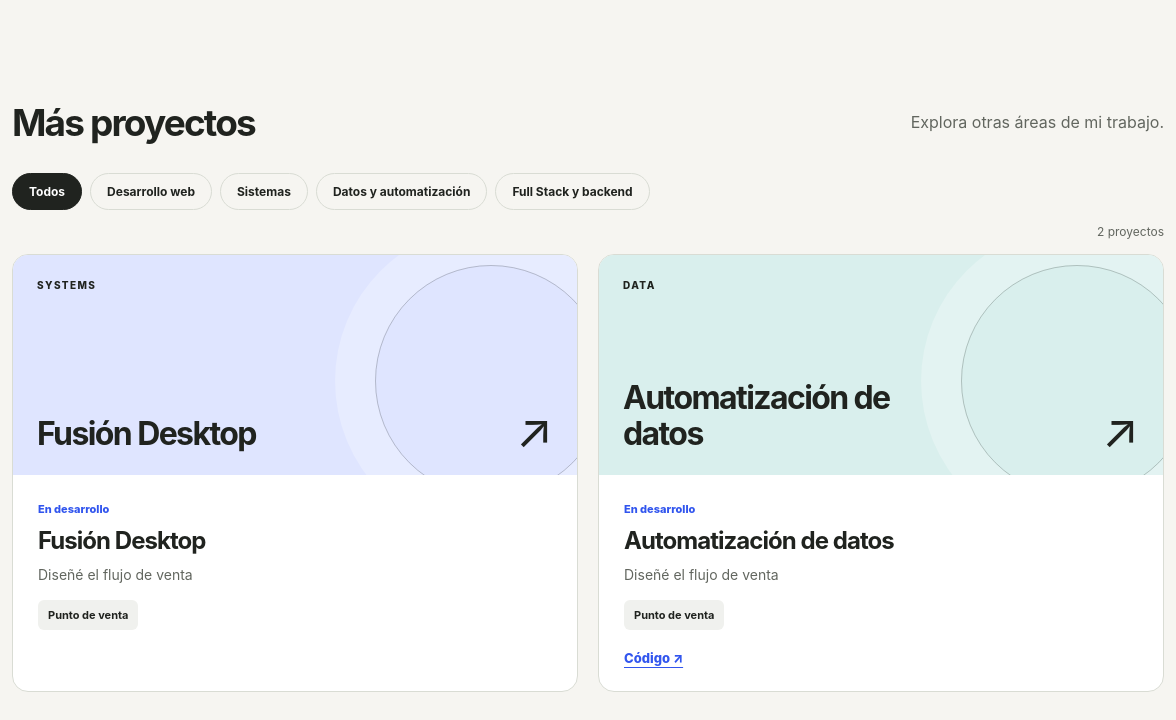
Test: galería de proyectos › filtra y permite volver a todos
Click the button "Datos y automatización".
click(402, 192)  # box [316, 173, 487, 210]
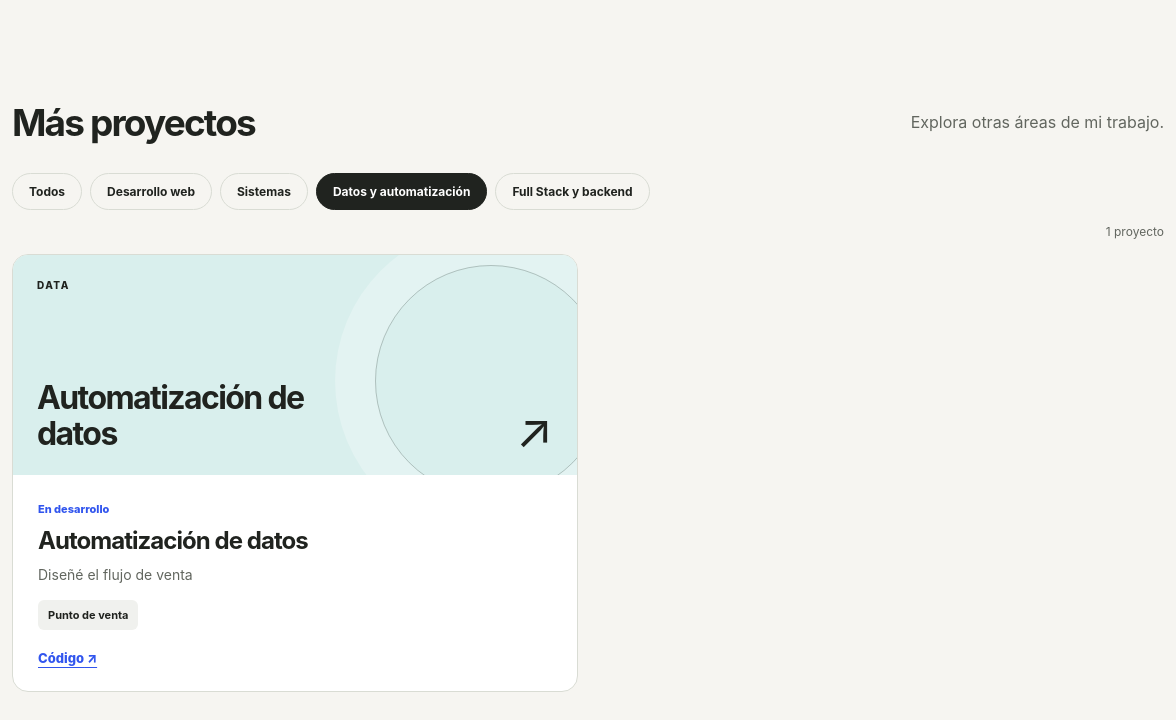
Check: the heading "Automatización de datos" is shown, box [38, 526, 308, 555]
Check: the text "Fusión Desktop" is gone
Click the button "Todos".
click(47, 192)  # box [12, 173, 82, 210]
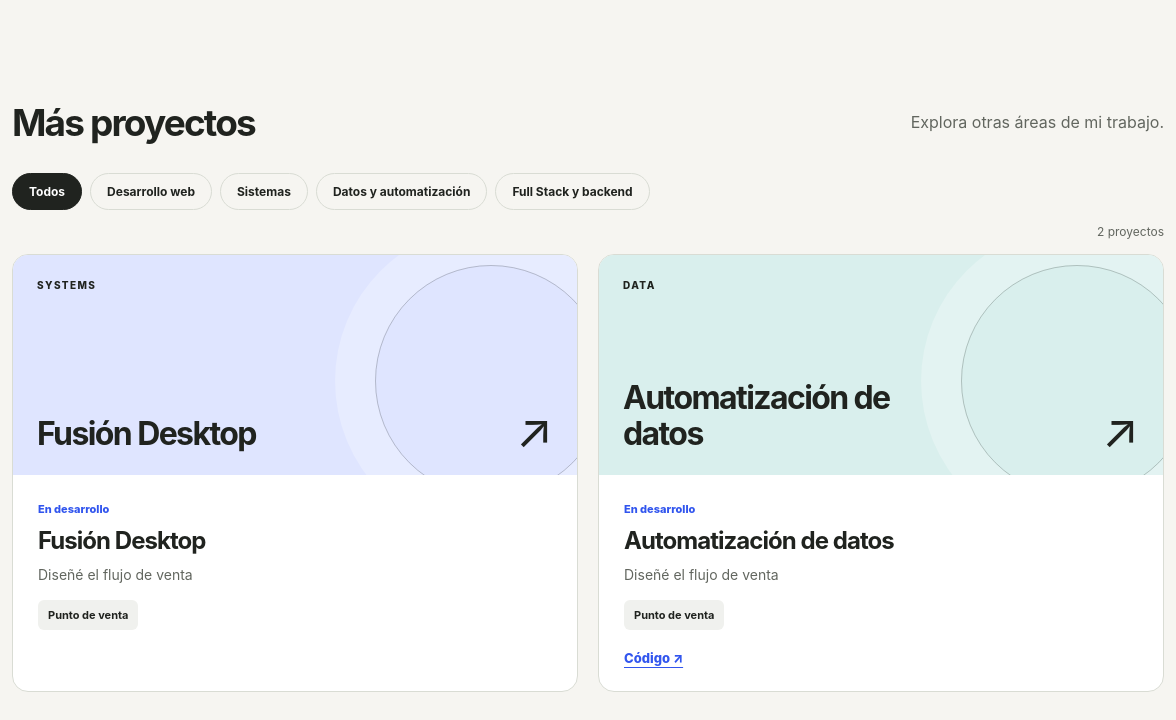
Check: the heading "Fusión Desktop" is shown, box [38, 526, 206, 555]
